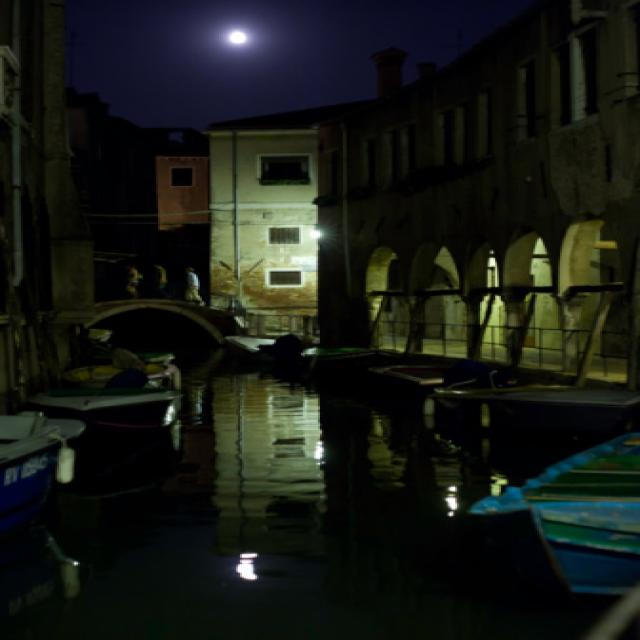Boat: (373, 405, 640, 610), (337, 330, 640, 412), (57, 329, 231, 441), (0, 385, 117, 530)
